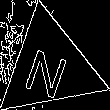N_N: (23, 36, 75, 97)
